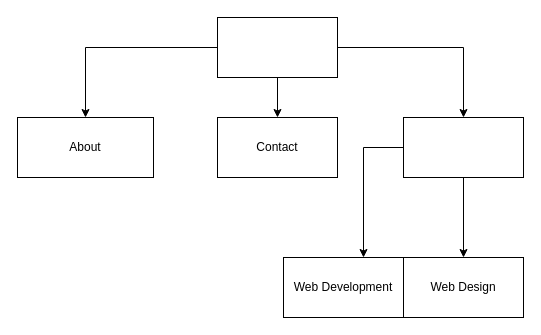
Image size: 541x335. Some labels were removed from this diagram. The shapes that lost their labels are listed below. From the top down, each one's centre as x and y in pixels, then its label:
At (277,47): "Home Page".
At (463,147): "Services".
